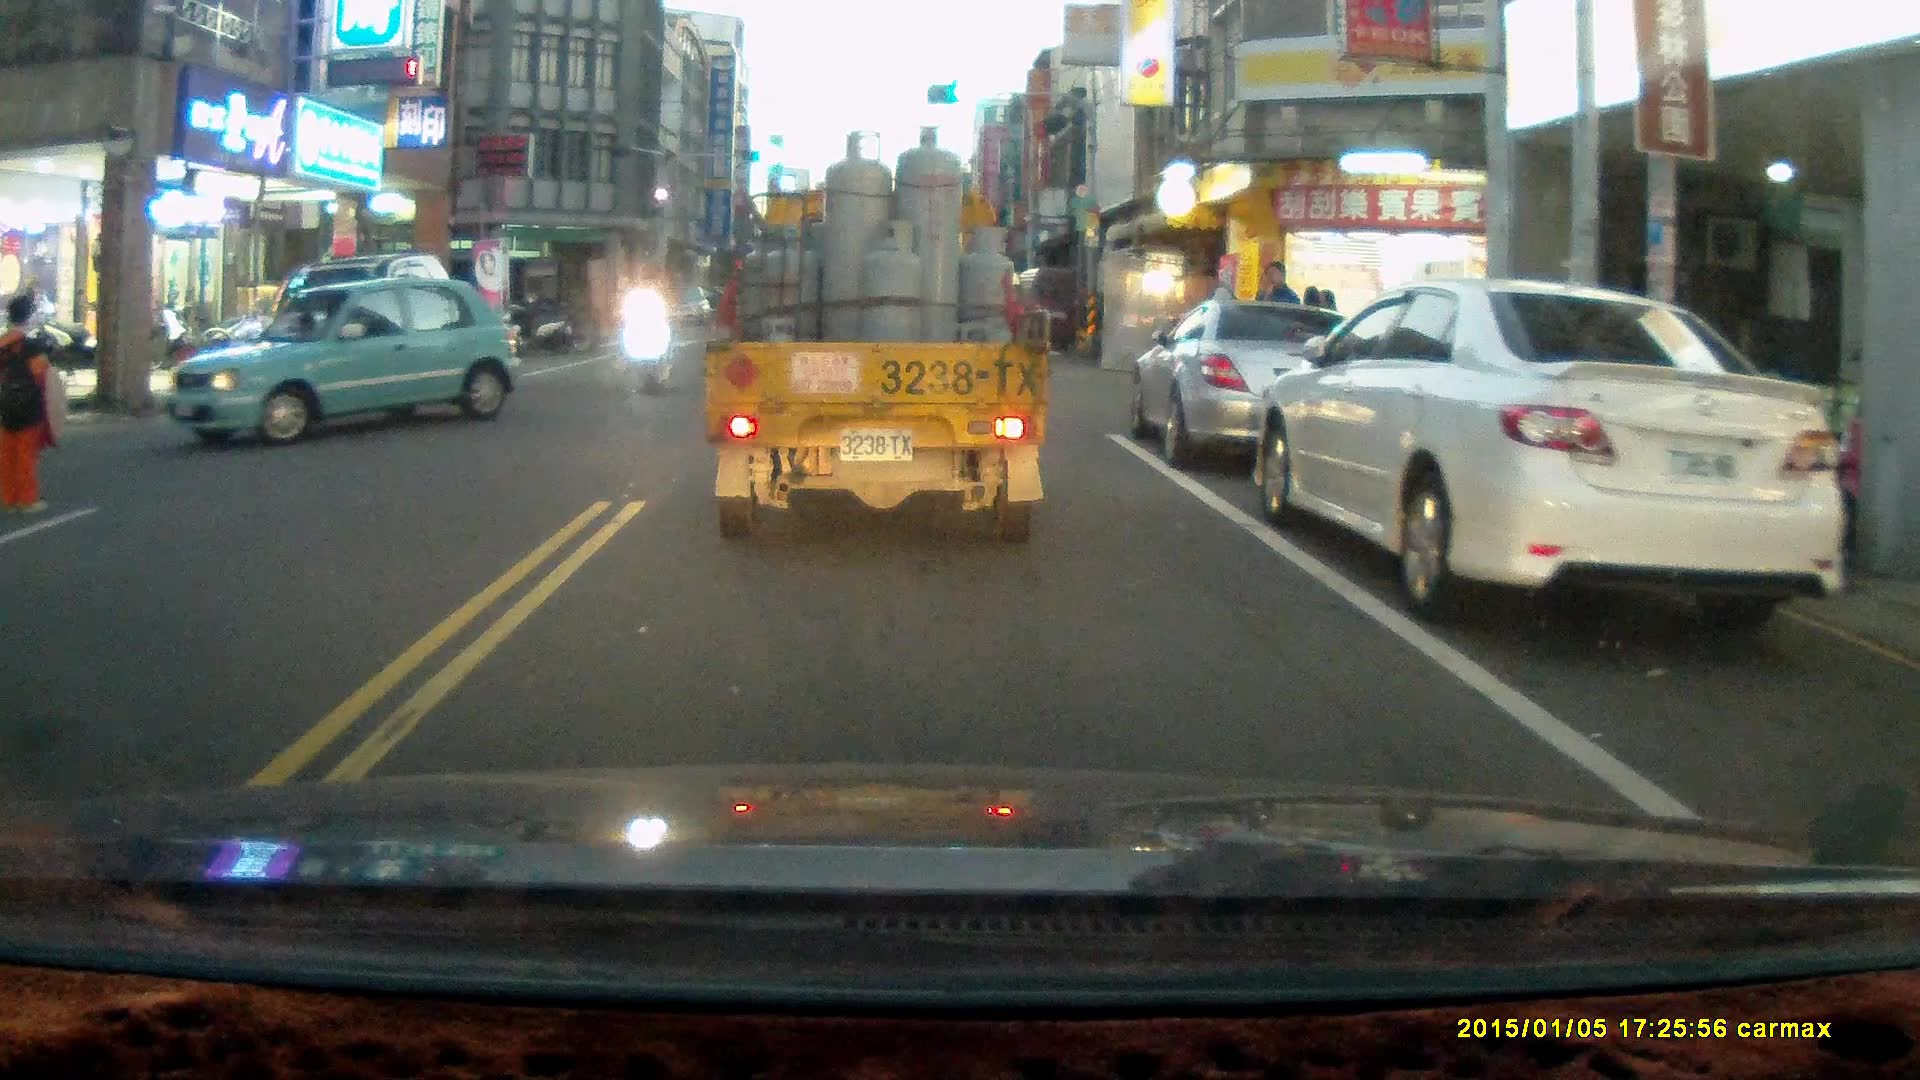pedestrian: (0, 295, 65, 516)
rider: (628, 276, 671, 401)
vehicle: (1254, 282, 1855, 632), (702, 127, 1055, 544), (168, 280, 520, 449), (1136, 298, 1381, 471), (1008, 268, 1101, 358)
